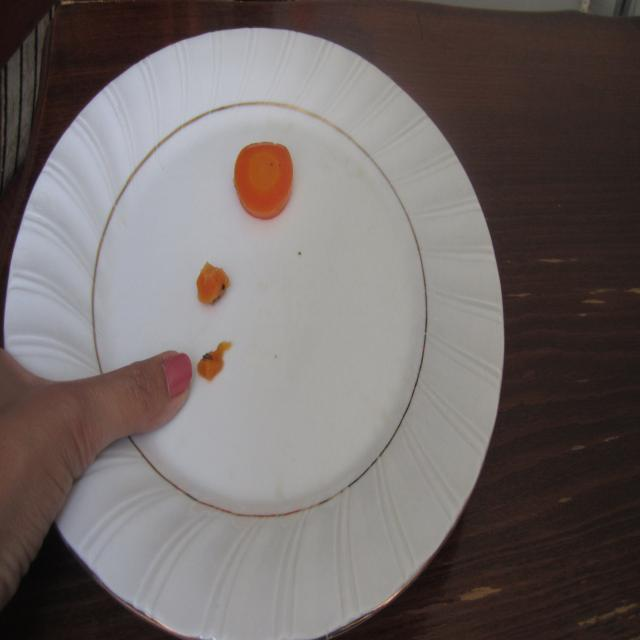carrot: (232, 139, 294, 220)
